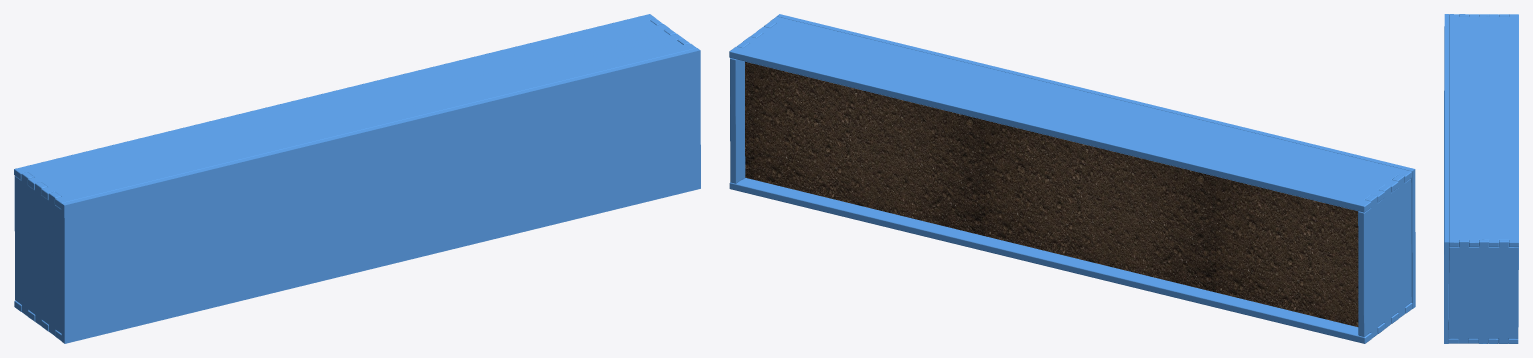
Rendered from compressedflowerbed.glb.
3 renders of one model, left to right at view 1: azimuth 30°, elevation 25°; view 2: azimuth 150°, elevation 25°; view 3: azimuth 270°, elevation 25°, orthographic. The views are drawn at different scales.
Parts seen in each view (by area): view 1: Wood; view 2: Soil, Wood; view 3: Wood.
Part boxes in pixels (x1,y1,x2,y2): Wood: (14, 14, 700, 343); Soil: (745, 61, 1358, 326); Wood: (729, 14, 1415, 343); Wood: (1444, 14, 1518, 343).
Size of the model in its own units: 10.02 by 2.09 by 1.39.
3 materials, 2 textured.
